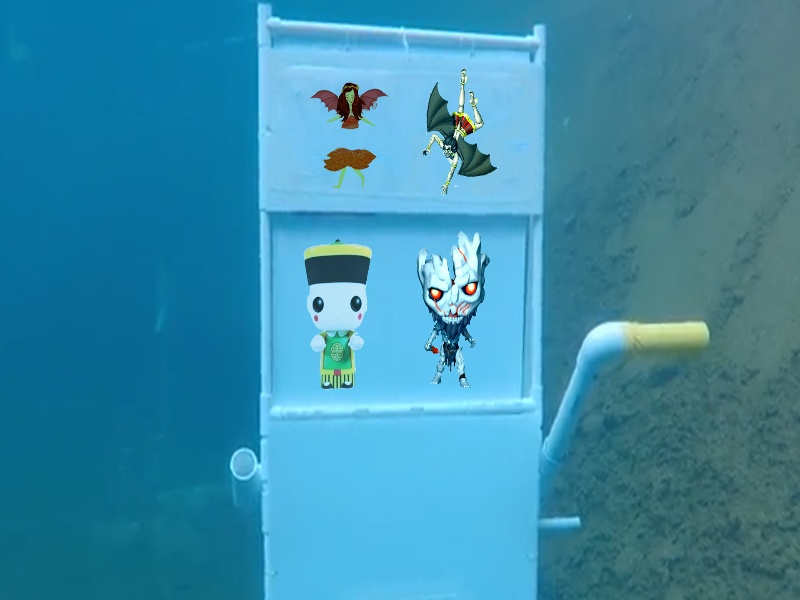Aswang: (310, 79, 390, 189)
Draugr: (414, 228, 490, 390)
Jiangshi: (301, 238, 375, 391)
Vetalas: (419, 65, 498, 196)
